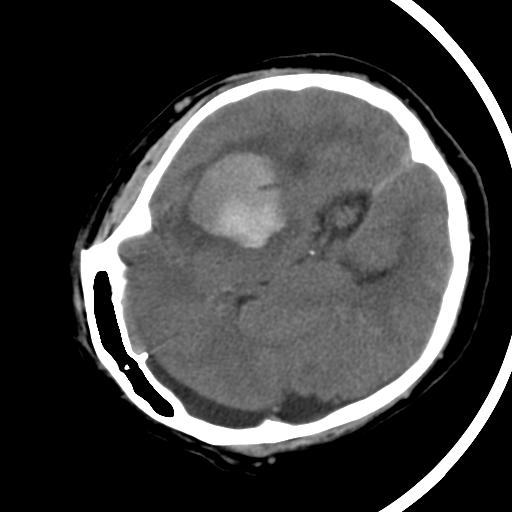a: (165, 123, 319, 274)
